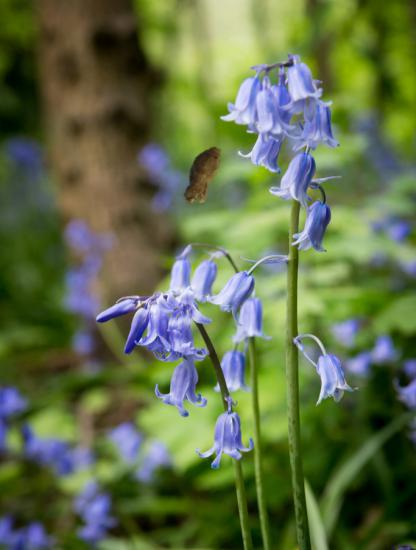Ginger: (170, 143, 235, 208)
